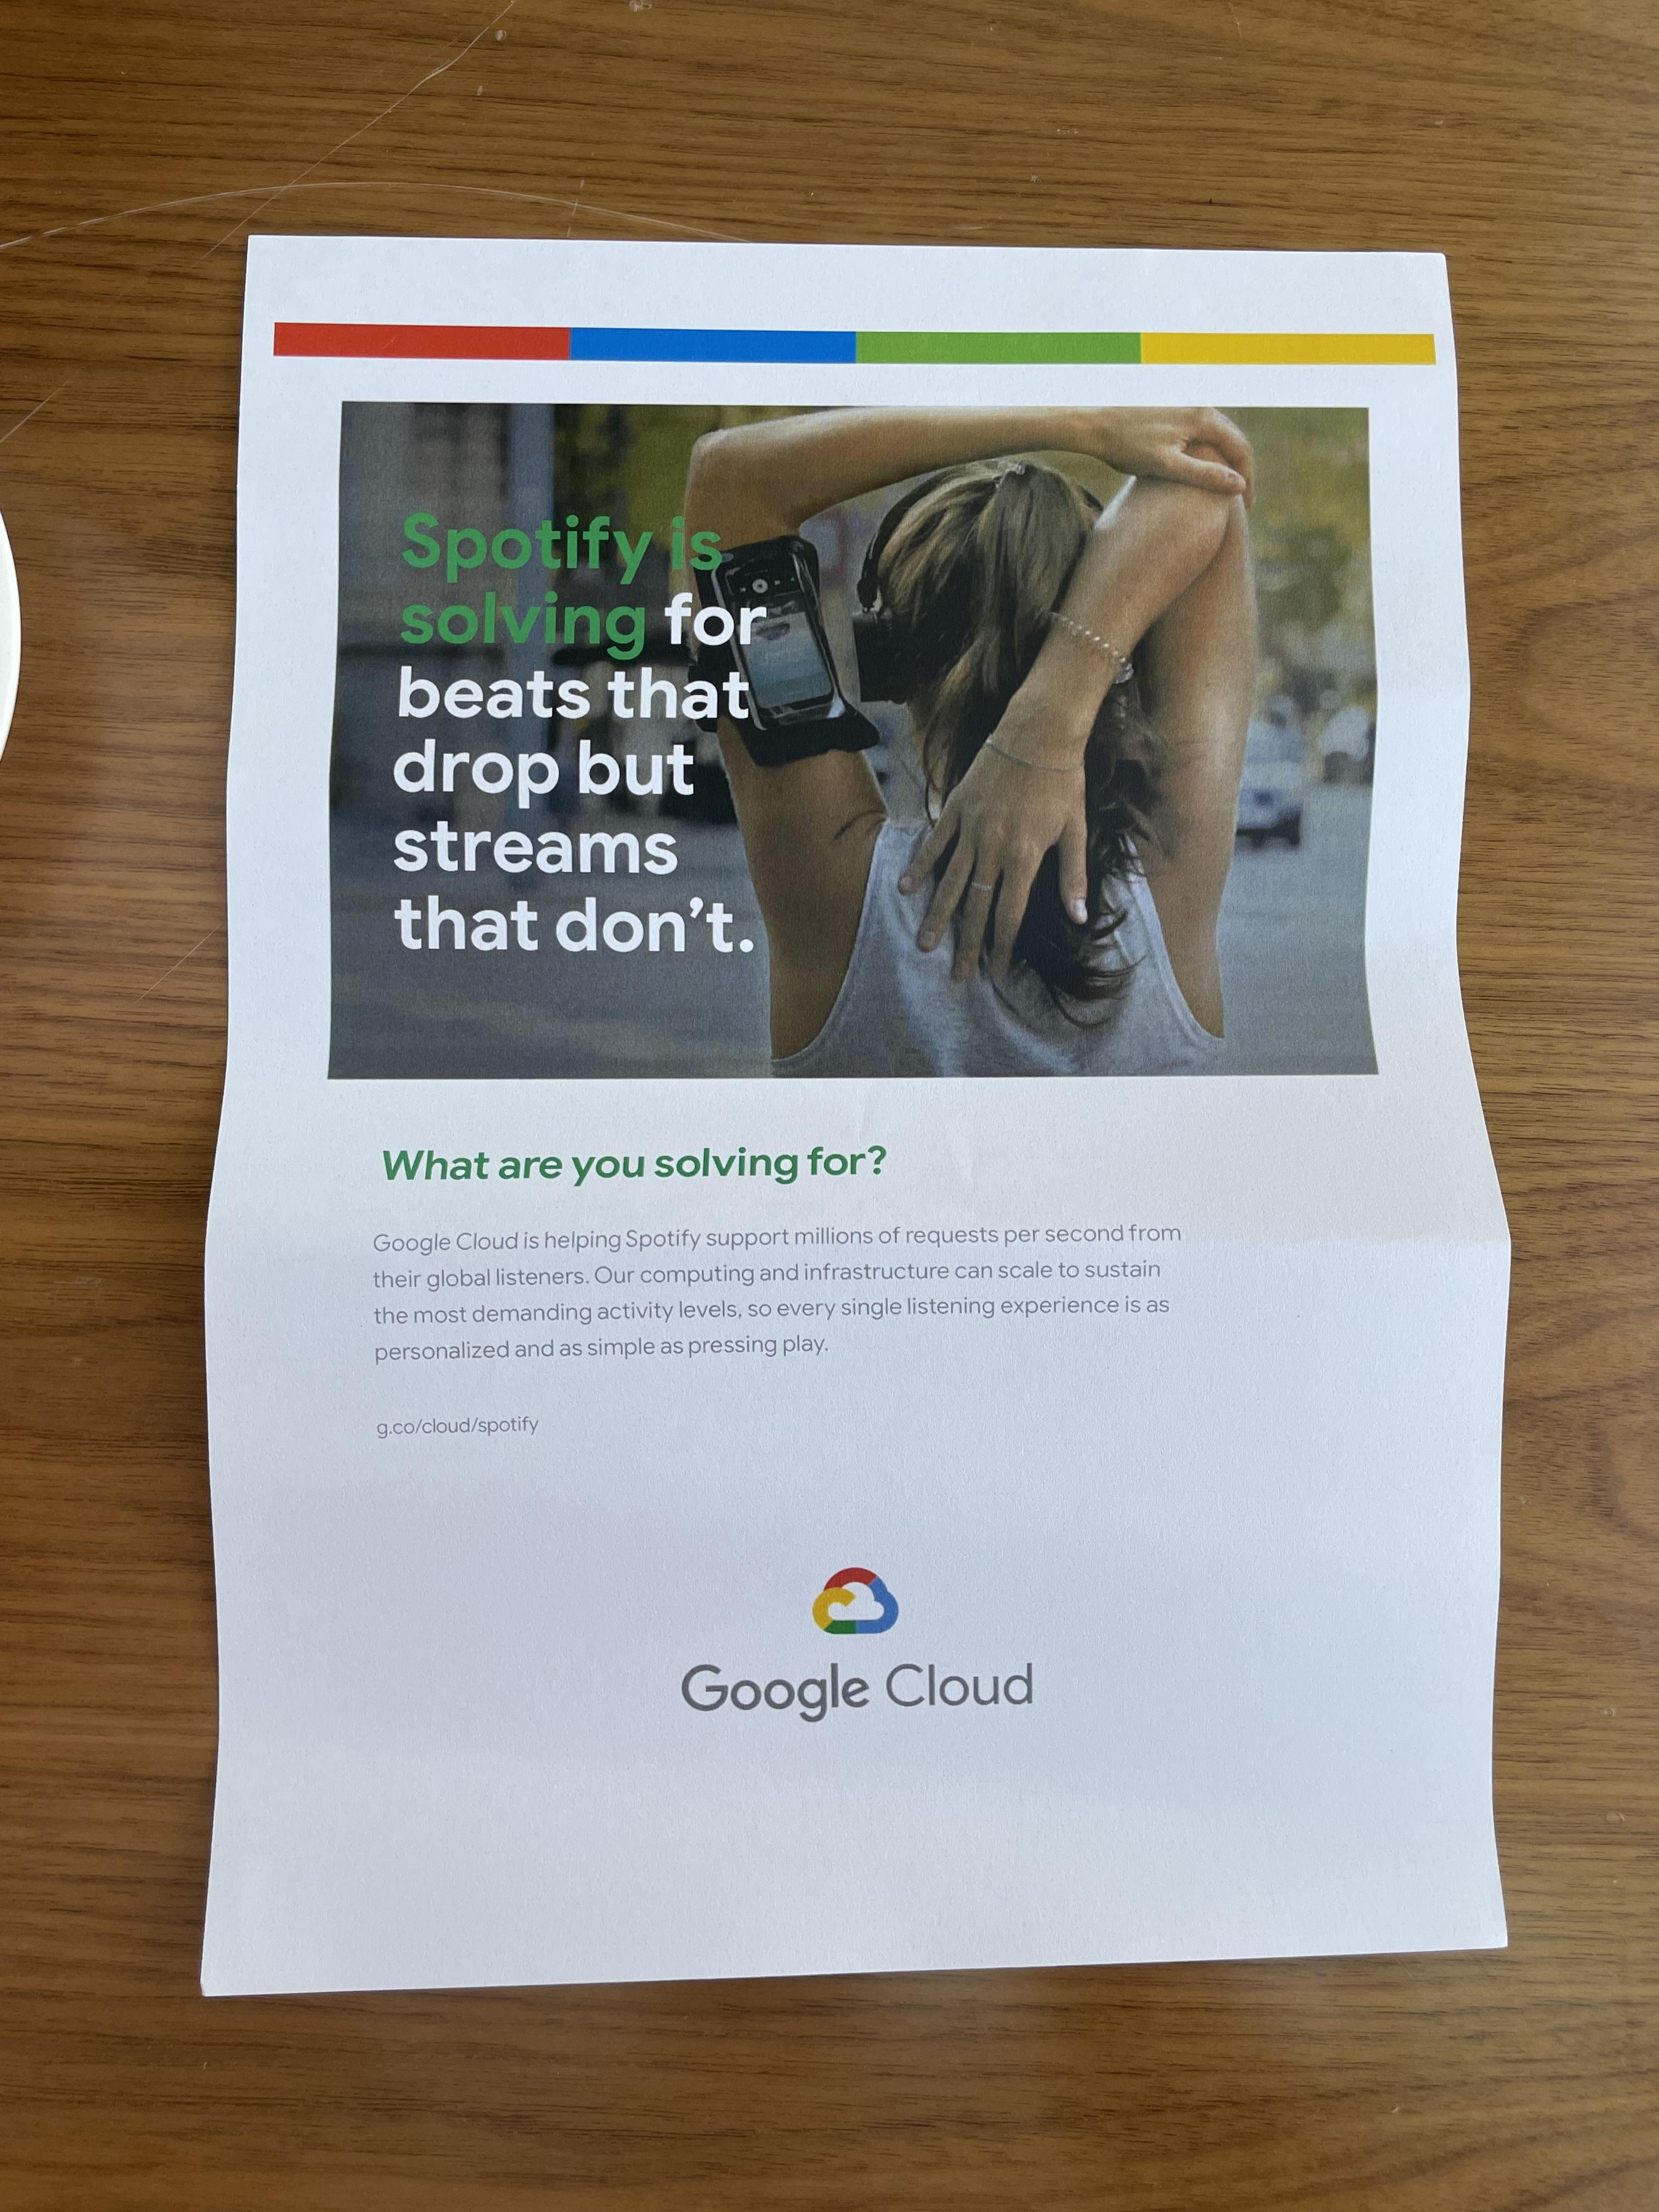paper: (113, 105, 1574, 2087)
